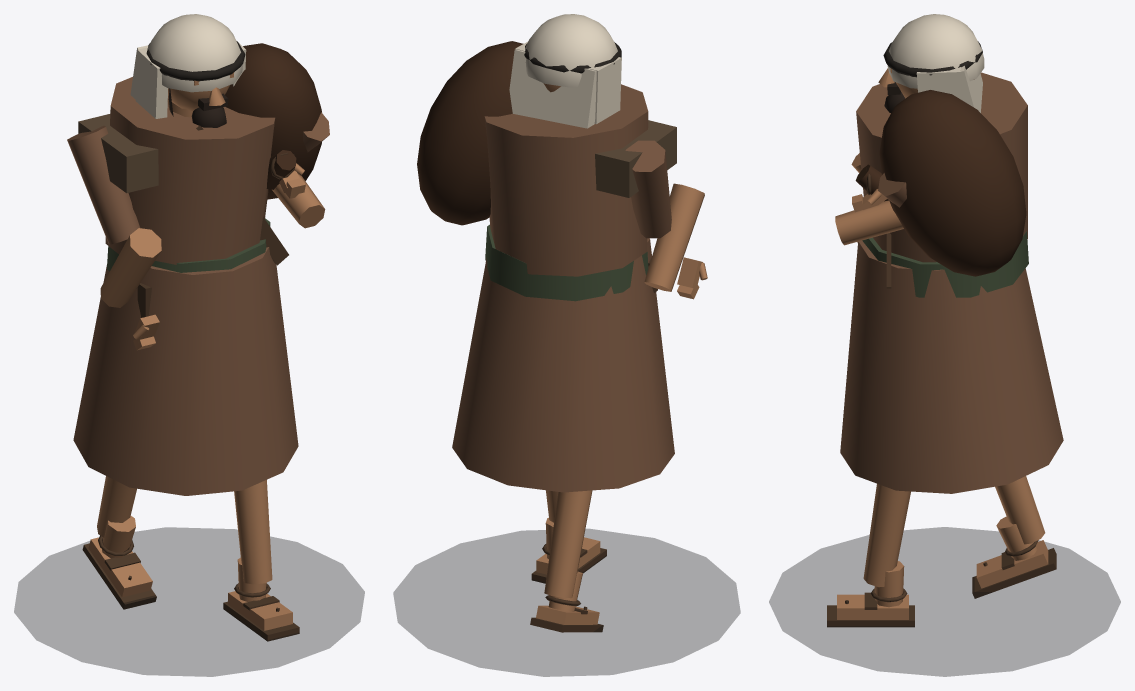
Rendered from actor-carrier-6c53fff0.glb.
The picture shows the model from 3 angles, left to right: view 1: azimuth 30°, elevation 25°; view 2: azimuth 150°, elevation 25°; view 3: azimuth 270°, elevation 25°; orthographic projection.
Parts seen in each view (by area): view 1: actor-carrier, head-complex, foot-l, foot-r, hand-l, hand-r; view 2: actor-carrier, head-complex, foot-l, foot-r, hand-l; view 3: actor-carrier, head-complex, foot-r, foot-l.
Part boxes in pixels (box(x1,y1,x2,y2)): actor-carrier: box(14, 43, 364, 676); head-complex: box(130, 14, 246, 127); foot-l: box(82, 515, 156, 609); foot-r: box(223, 558, 299, 641); hand-l: box(133, 314, 159, 350); hand-r: box(279, 163, 305, 198); actor-carrier: box(393, 41, 740, 676); head-complex: box(509, 14, 621, 128); foot-l: box(530, 571, 603, 632); foot-r: box(531, 517, 606, 583); hand-l: box(677, 257, 707, 299); actor-carrier: box(769, 72, 1120, 676); head-complex: box(878, 14, 984, 112); foot-r: box(827, 561, 914, 627); foot-l: box(972, 516, 1056, 598).
Size of the model in its own units: 0.88 by 1.63 by 0.88.
